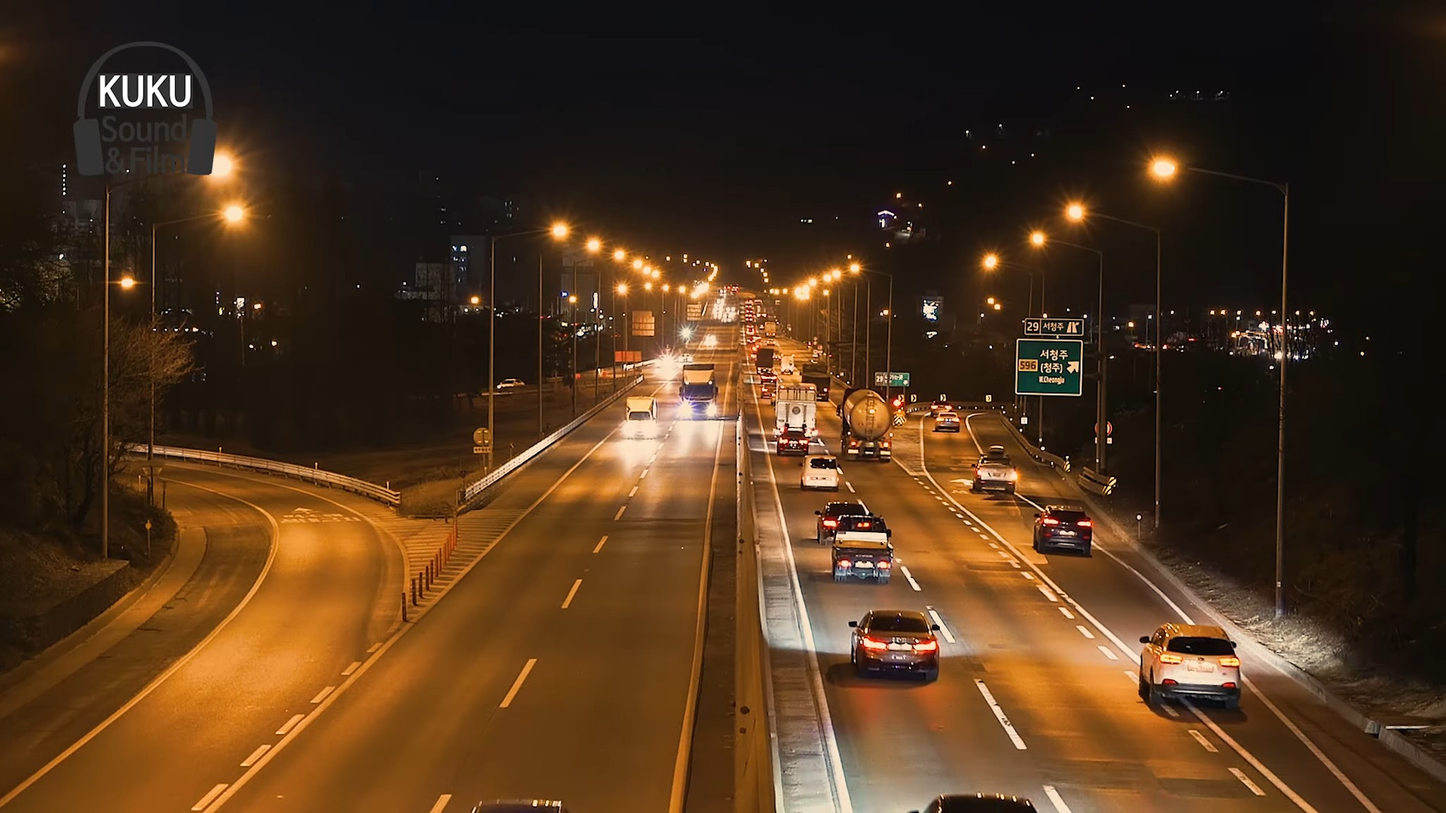car: (1137, 620, 1247, 706), (853, 604, 938, 679), (1031, 501, 1097, 559), (835, 519, 894, 581), (975, 456, 1021, 502)
